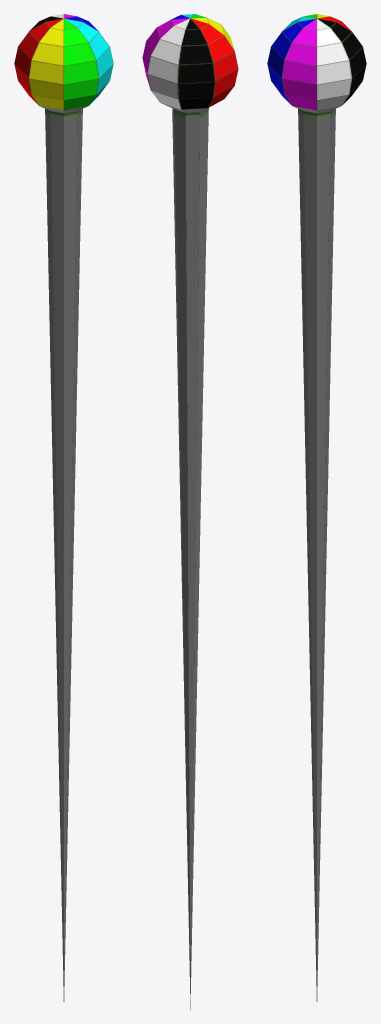
File: SpearTorch.obj
3 renders of one model, left to right at view 1: azimuth 90°, elevation 25°; view 2: azimuth 210°, elevation 25°; view 3: azimuth 270°, elevation 25°, orthographic.
Size of the model in its own units: 0.2 by 2.2 by 0.2.
1 material, 1 textured.
